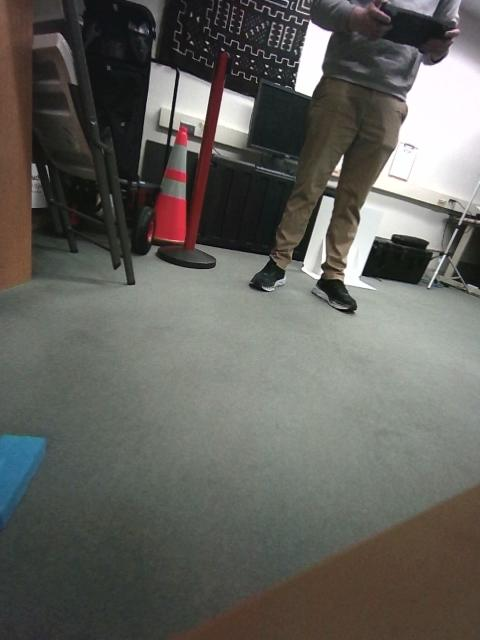block: (234, 335, 279, 388)
